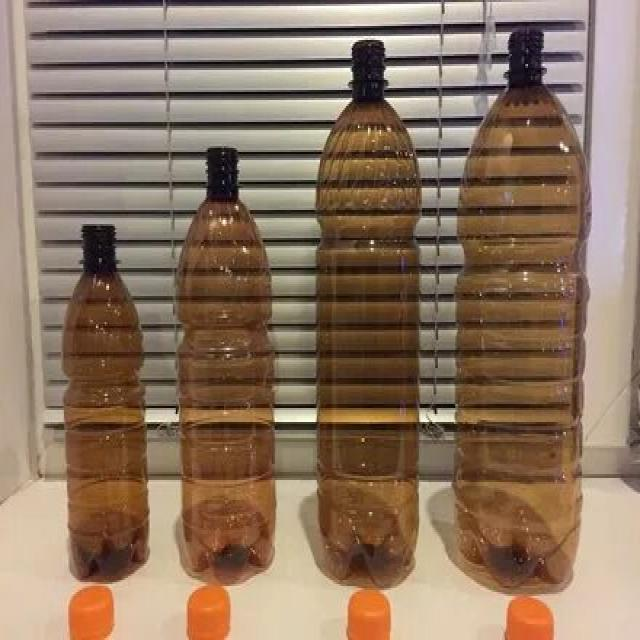brown: (458, 27, 593, 588), (314, 42, 421, 590), (174, 150, 274, 583), (62, 223, 150, 577)
